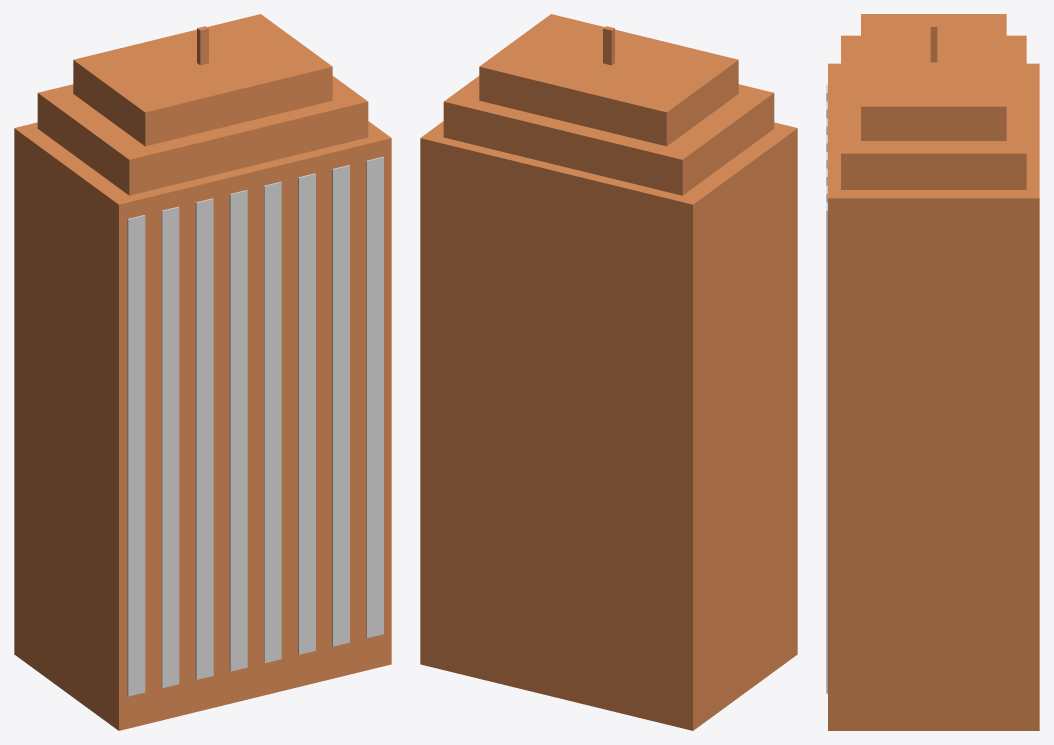
The model's file is predio6.fbx.
3 views of the same model, side by side, from view 1: azimuth 30°, elevation 25°; view 2: azimuth 150°, elevation 25°; view 3: azimuth 270°, elevation 25° (orthographic).
Visible parts, largest first — view 1: Cube; view 2: Cube; view 3: Cube.
Part boxes in pixels (bbox=[...]): Cube: bbox=[14, 14, 391, 730]; Cube: bbox=[420, 14, 797, 730]; Cube: bbox=[826, 14, 1039, 730].
Size of the model in its own units: 570 by 1260 by 382.
